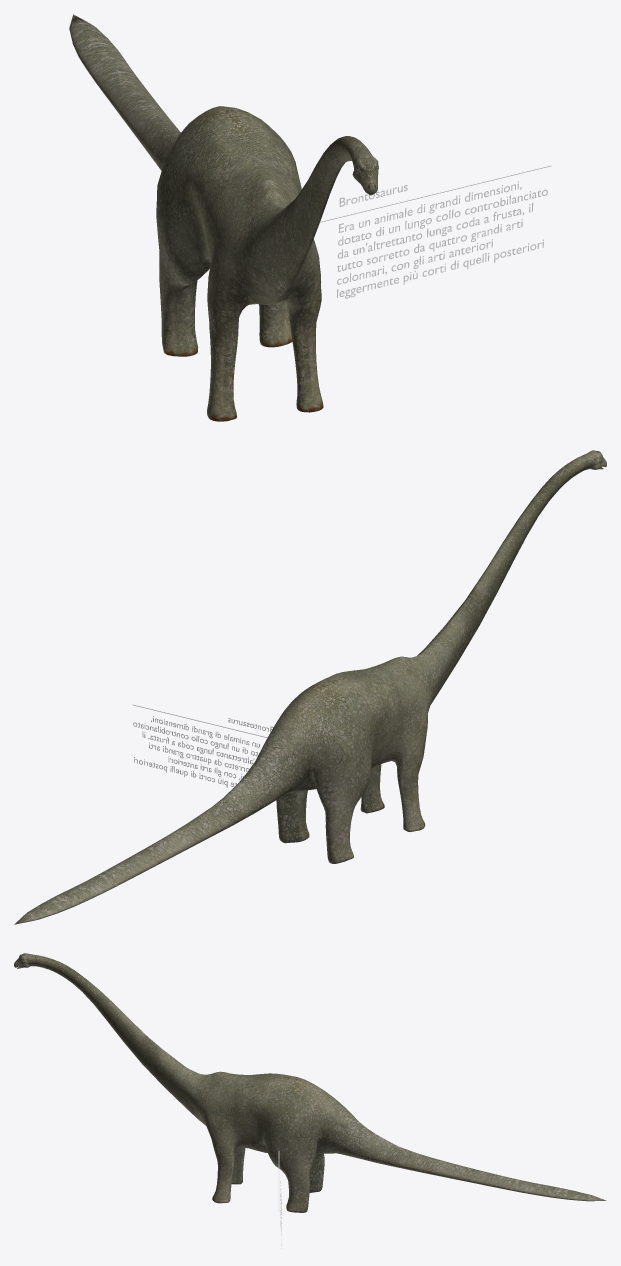
The model's file is Brontosaurus.gltf.
3 views of the same model, one above another, from view 1: azimuth 30°, elevation 25°; view 2: azimuth 150°, elevation 25°; view 3: azimuth 270°, elevation 25° (orthographic). The views are drawn at different scales.
Visible parts, largest first — view 1: Brontosauro, Text; view 2: Brontosauro, Text; view 3: Brontosauro.
Part boxes in pixels (x1,y1,x2,y2): Brontosauro: (69,14,378,421); Text: (337,181,547,298); Brontosauro: (14,450,606,924); Text: (133,716,273,787); Brontosauro: (14,953,605,1212).
Size of the model in its own units: 7.07 by 6.43 by 16.19.
2 materials, 1 textured.
